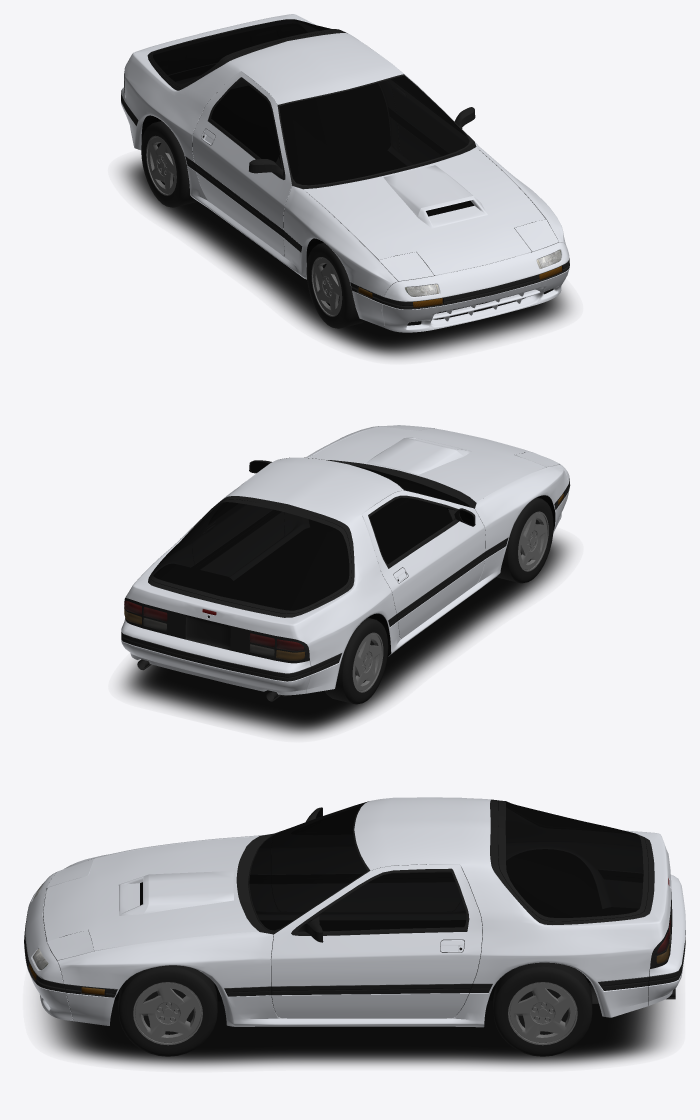
Rendered from mazda_rx7_fc.glb.
The picture shows the model from 3 angles, top to bottom: view 1: azimuth 30°, elevation 25°; view 2: azimuth 150°, elevation 25°; view 3: azimuth 270°, elevation 25°; orthographic projection. The views are drawn at different scales.
Parts seen in each view (by area): view 1: Cube.001_5, Plane_9, Circle.002_7, Circle.004_12, Cube.002_6; view 2: Cube.001_5, Plane_9, Circle.002_7, Circle.004_12; view 3: Cube.001_5, Plane_9, Circle.003_11, Circle.001_10, Cube.002_6.
Part boxes in pixels (x1=…): Cube.001_5: x1=121, y1=14, x2=569, y2=332; Plane_9: x1=119, y1=156, x2=571, y2=358; Circle.002_7: x1=141, y1=121, x2=197, y2=207; Circle.004_12: x1=306, y1=243, x2=365, y2=328; Cube.002_6: x1=379, y1=219, x2=558, y2=281; Cube.001_5: x1=121, y1=425, x2=570, y2=701; Plane_9: x1=119, y1=533, x2=572, y2=736; Circle.002_7: x1=324, y1=617, x2=388, y2=704; Circle.004_12: x1=497, y1=497, x2=553, y2=583; Cube.001_5: x1=24, y1=797, x2=685, y2=1027; Plane_9: x1=38, y1=993, x2=672, y2=1067; Circle.003_11: x1=493, y1=962, x2=592, y2=1056; Circle.001_10: x1=118, y1=965, x2=217, y2=1056; Cube.002_6: x1=47, y1=858, x2=93, y2=960.
Size of the model in its own units: 3.21 by 1.28 by 4.39.
12 materials, 5 textured.
